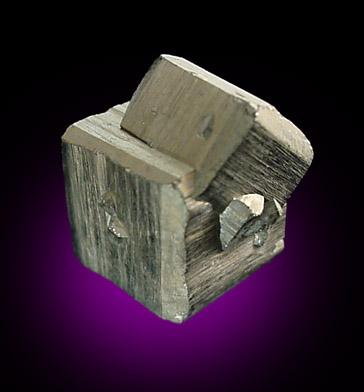pyrite: (62, 56, 313, 325)
